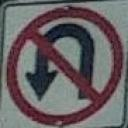NoVirarU: (6, 2, 126, 124)
